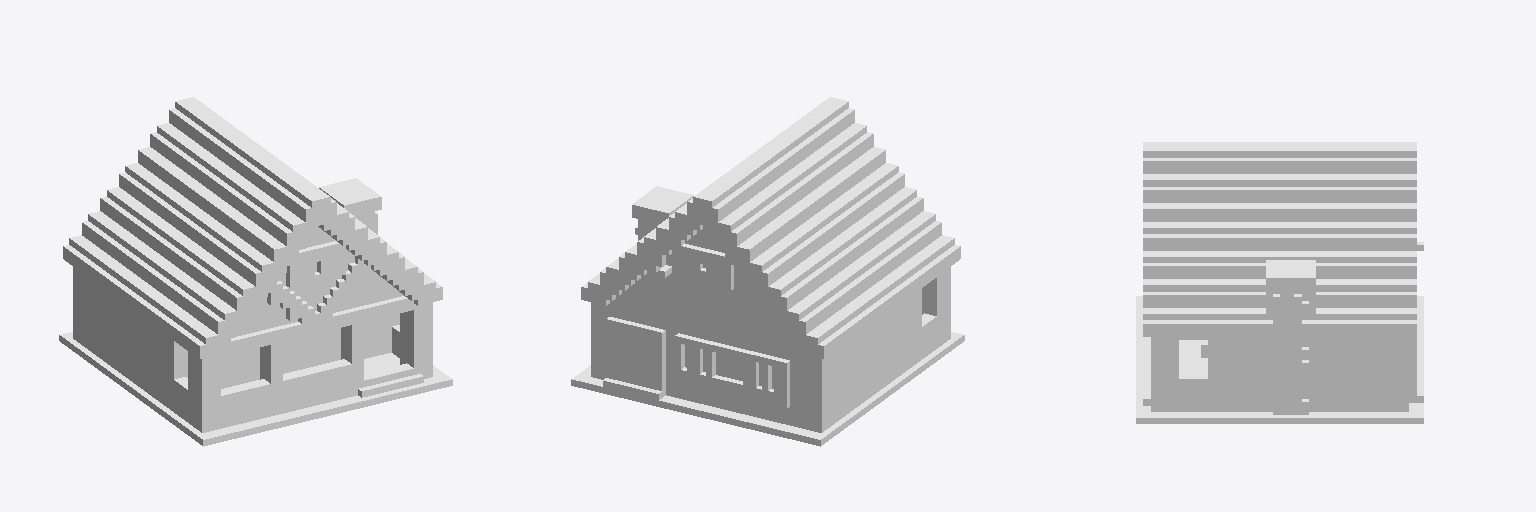
The model's file is privatebuilding2.obj.
3 views of the same model, side by side, from view 1: azimuth 30°, elevation 25°; view 2: azimuth 150°, elevation 25°; view 3: azimuth 270°, elevation 25° (orthographic).
Size of the model in its own units: 1 by 0.825 by 1.